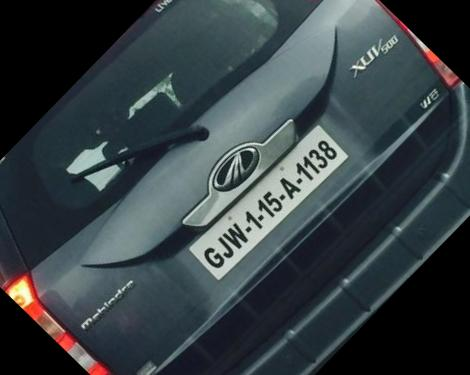plate: (167, 94, 381, 310)
